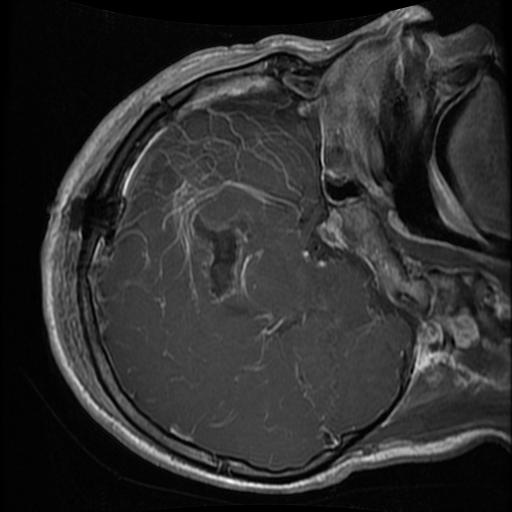glioma: (189, 206, 250, 303)
